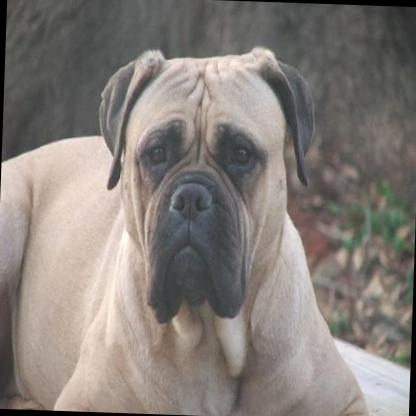bull_mastiff: (0, 37, 384, 416)
